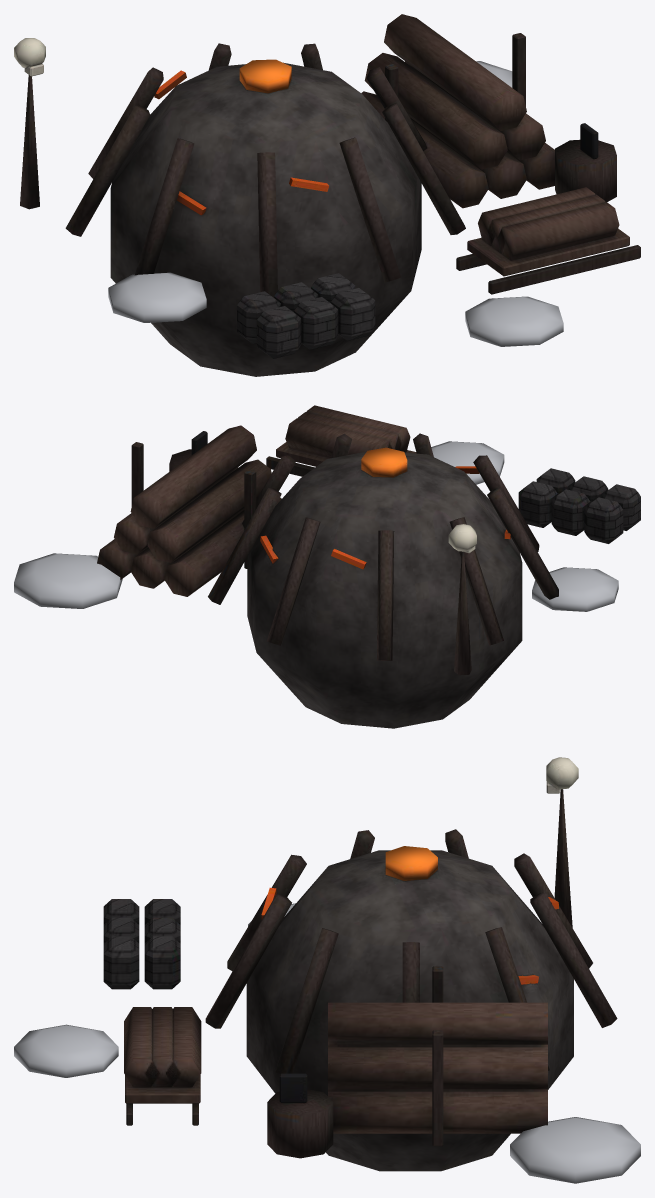
File: asch_lumber.glb
The picture shows the model from 3 angles, top to bottom: view 1: azimuth 30°, elevation 25°; view 2: azimuth 150°, elevation 25°; view 3: azimuth 270°, elevation 25°; orthographic projection. The views are drawn at different scales.
Parts seen in each view (by area): view 1: asch_lumber, Schnee; view 2: asch_lumber, Schnee; view 3: asch_lumber, Schnee.
Part boxes in pixels (x1,y1,x2,y2): asch_lumber: (14, 14, 640, 376); Schnee: (108, 61, 563, 346); asch_lumber: (97, 405, 640, 728); Schnee: (14, 441, 618, 611); asch_lumber: (103, 757, 617, 1171); Schnee: (14, 903, 640, 1183).
Size of the model in its own units: 4.66 by 2.55 by 4.56.
Materials: 2 (1 with a texture image).
